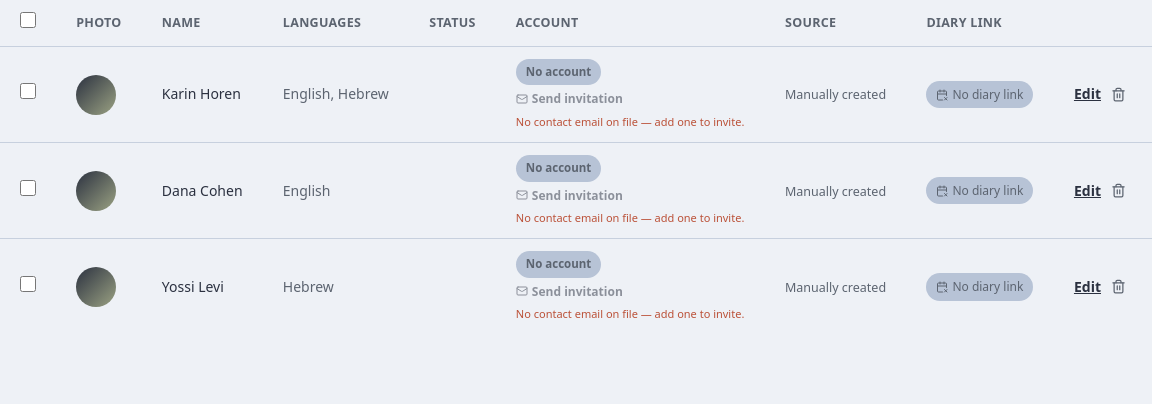
TherapistsTable › shows no bulk action bar until at least one therapist is selected
Check: the text "Activate selected" is not shown
Check: the text "Deactivate selected" is not shown
Click the checkbox named "Select Karin Horen": (28, 91) [20, 83, 36, 99]
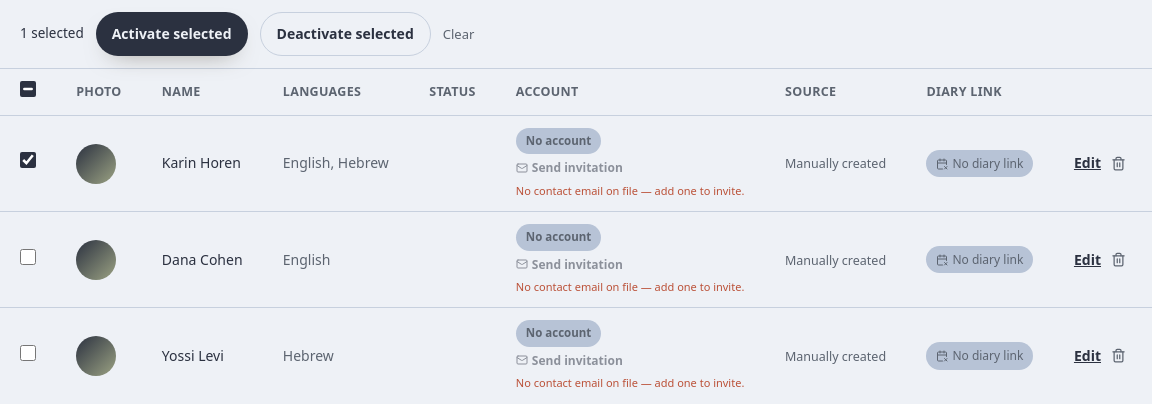
Check: the text "1 selected" is shown, box [20, 23, 84, 45]
Check: the button "Activate selected" is shown, box [96, 12, 248, 56]
Check: the button "Deactivate selected" is shown, box [260, 12, 431, 56]
